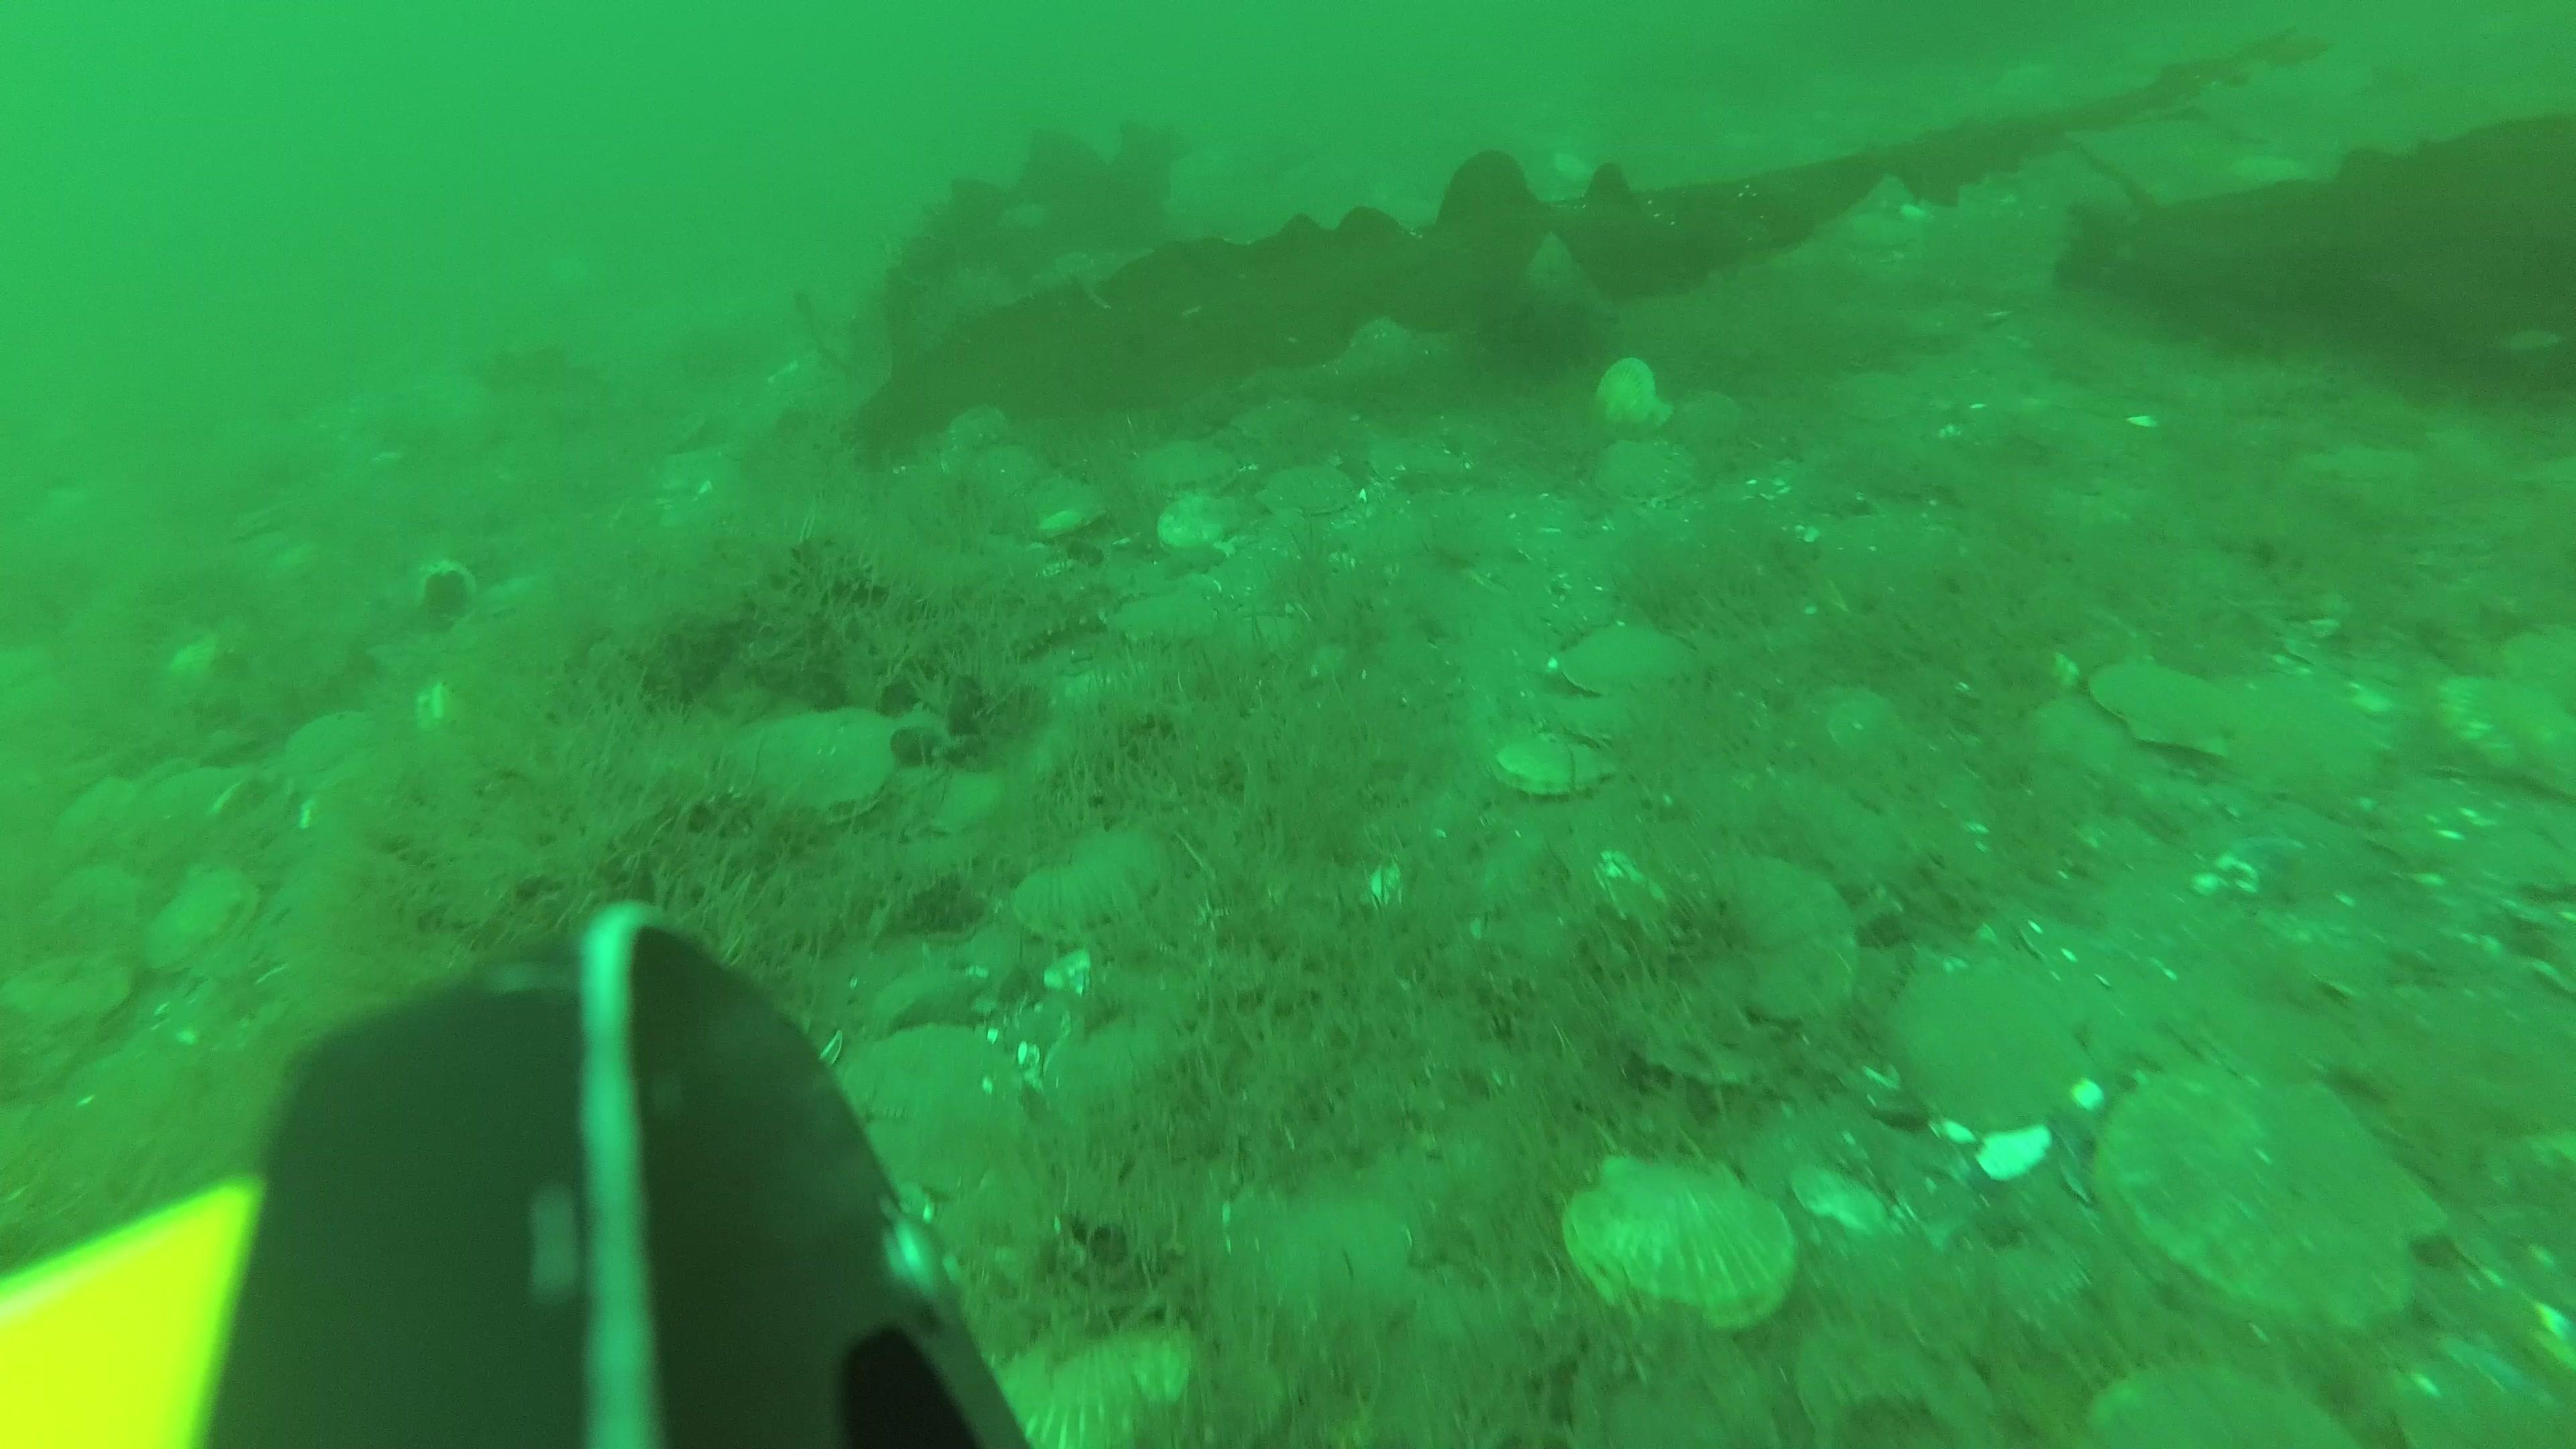holothurian: (998, 600, 1106, 656)
scallop: (2102, 1063, 2452, 1341), (1568, 1145, 1813, 1332), (1877, 961, 2093, 1136), (828, 1024, 1033, 1196), (1219, 1185, 1433, 1332), (1679, 862, 1867, 1026), (991, 1318, 1203, 1449), (2194, 685, 2378, 805), (743, 702, 911, 817), (2440, 671, 2576, 782), (2082, 660, 2229, 763), (1024, 837, 1162, 932), (1555, 616, 1702, 704), (4, 954, 124, 1035), (1594, 433, 1709, 518), (150, 872, 239, 980), (1491, 722, 1612, 798), (274, 718, 380, 801), (1116, 589, 1231, 649), (1258, 465, 1366, 529), (1139, 439, 1238, 492), (1162, 488, 1240, 556), (1591, 356, 1660, 421)
